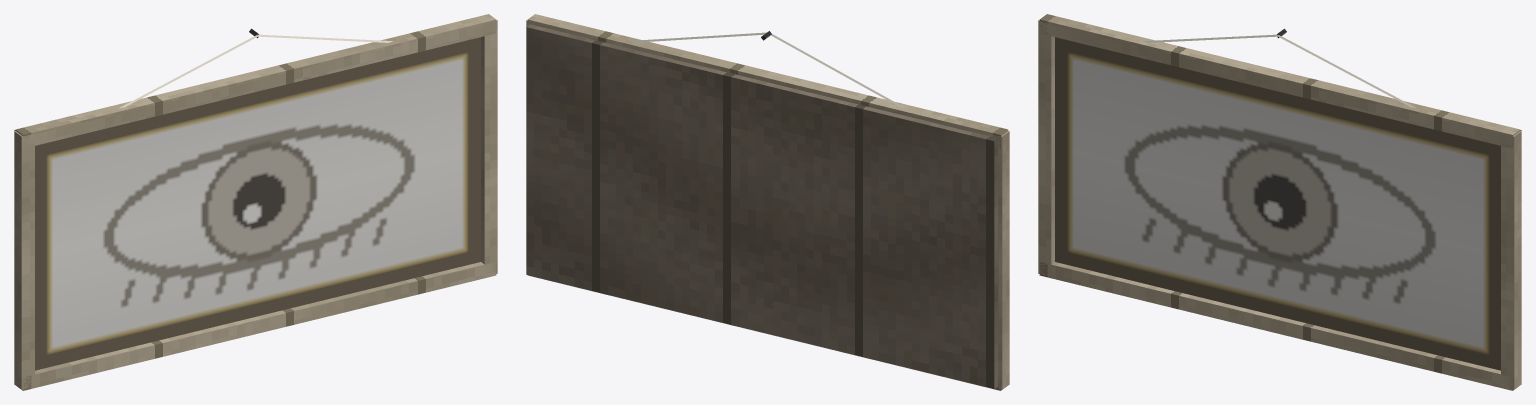
File: painting_eye.obj
3 views of the same model, side by side, from view 1: azimuth 30°, elevation 25°; view 2: azimuth 150°, elevation 25°; view 3: azimuth 330°, elevation 25° (orthographic).
Visible parts, largest first — view 1: painting_eye; view 2: painting_eye; view 3: painting_eye.
Boxes of the visible parts, x1=… form: painting_eye: x1=14, y1=14, x2=497, y2=390; painting_eye: x1=526, y1=14, x2=1009, y2=390; painting_eye: x1=1038, y1=14, x2=1521, y2=390.
Size of the model in its own units: 1.81 by 1.08 by 0.075.
